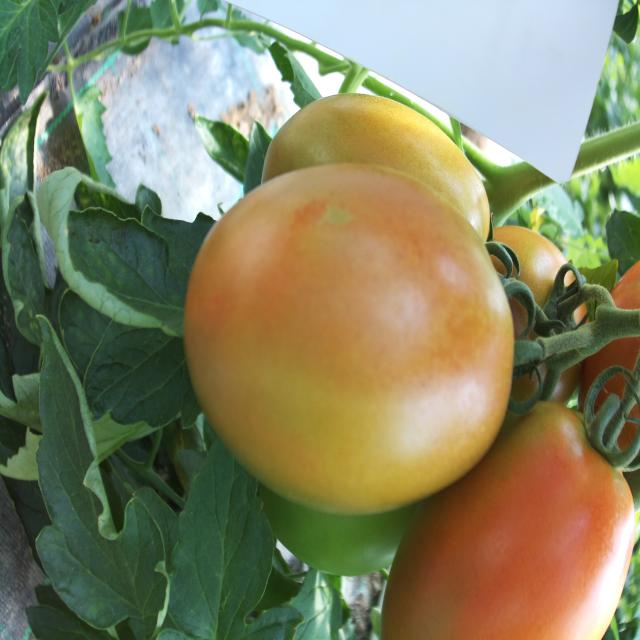sari: (175, 133, 527, 505)
